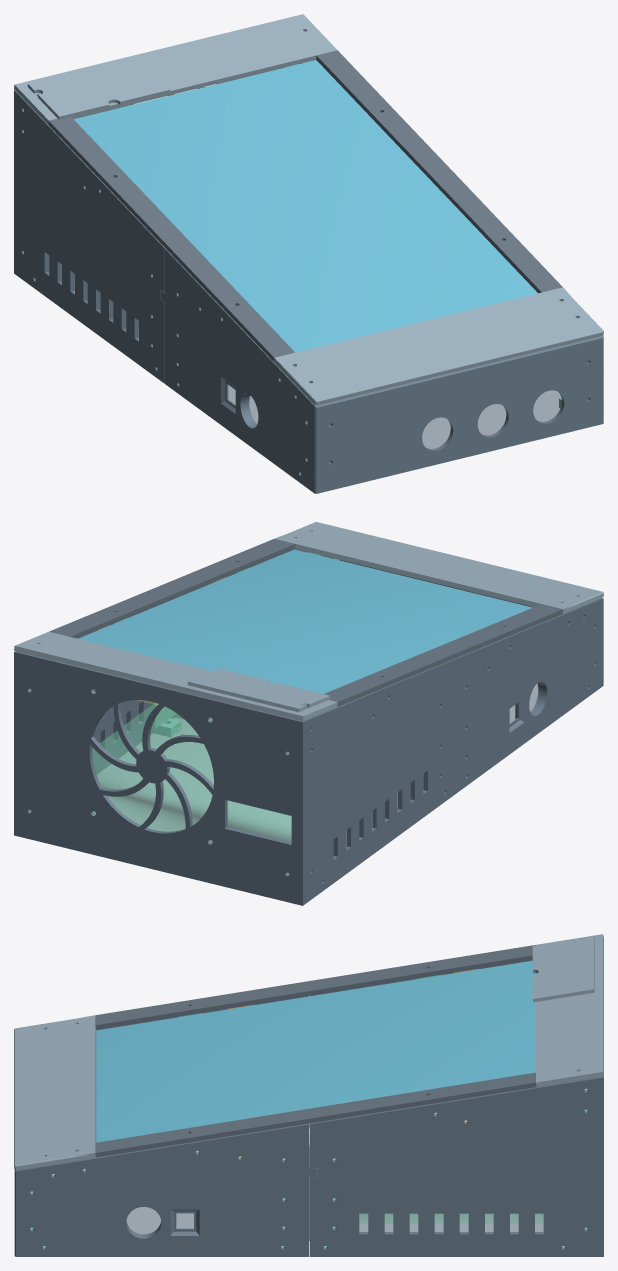
Rendered from cabinet-v1_11.glb.
The picture shows the model from 3 angles, top to bottom: view 1: azimuth 30°, elevation 25°; view 2: azimuth 150°, elevation 25°; view 3: azimuth 270°, elevation 25°; orthographic projection. The views are drawn at different scales.
Visible parts, largest first — view 1: REFERENCE_Monitor, left_rear_wall, front_button_panel, left_front_wall, front_cable_lid, rear_control_deck, bezel_right_a1_a2, bezel_left_one_piece, control_hatch, bottom_front; view 2: rear_vent_panel, REFERENCE_Monitor, left_rear_wall, left_front_wall, front_cable_lid, REFERENCE_Dell_3050, bottom_rear, rear_control_deck, bezel_right_a1_a2, bezel_left_one_piece, right_rear_wall, control_hatch; view 3: REFERENCE_Monitor, right_rear_wall, right_front_wall, front_cable_lid, bezel_right_a1_a2, bezel_left_one_piece, rear_control_deck, control_hatch, bottom_rear, bottom_front, REFERENCE_Dell_3050.
Part boxes in pixels (bbox=[...]): REFERENCE_Monitor: bbox=[73, 60, 537, 352]; left_rear_wall: bbox=[14, 90, 165, 383]; front_button_panel: bbox=[319, 336, 599, 492]; left_front_wall: bbox=[161, 248, 319, 493]; front_cable_lid: bbox=[274, 287, 603, 405]; rear_control_deck: bbox=[14, 14, 337, 124]; bezel_right_a1_a2: bbox=[316, 50, 562, 293]; bezel_left_one_piece: bbox=[48, 117, 294, 361]; control_hatch: bbox=[27, 56, 170, 119]; bottom_front: bbox=[228, 385, 561, 448]; rear_vent_panel: bbox=[18, 652, 299, 904]; REFERENCE_Monitor: bbox=[78, 549, 532, 693]; left_rear_wall: bbox=[298, 660, 453, 905]; left_front_wall: bbox=[449, 598, 603, 794]; front_cable_lid: bbox=[274, 522, 603, 613]; REFERENCE_Dell_3050: bbox=[92, 703, 291, 842]; bottom_rear: bbox=[93, 725, 397, 845]; rear_control_deck: bbox=[14, 631, 337, 720]; bezel_right_a1_a2: bbox=[49, 538, 295, 638]; bezel_left_one_piece: bbox=[324, 604, 562, 706]; right_rear_wall: bbox=[14, 601, 168, 836]; control_hatch: bbox=[187, 668, 330, 712]; REFERENCE_Monitor: bbox=[96, 960, 535, 1142]; right_rear_wall: bbox=[309, 1076, 603, 1256]; right_front_wall: bbox=[14, 1123, 316, 1256]; front_cable_lid: bbox=[14, 1015, 96, 1170]; bezel_right_a1_a2: bbox=[95, 1072, 536, 1157]; bezel_left_one_piece: bbox=[95, 945, 535, 1029]; rear_control_deck: bbox=[536, 934, 603, 1086]; control_hatch: bbox=[532, 936, 594, 1002]; bottom_rear: bbox=[359, 1213, 543, 1231]; bottom_front: bbox=[126, 1207, 193, 1234]; REFERENCE_Dell_3050: bbox=[359, 1213, 543, 1223].
Bounding box in the file's own units: 0.26 × 0.1646 × 0.4705.
